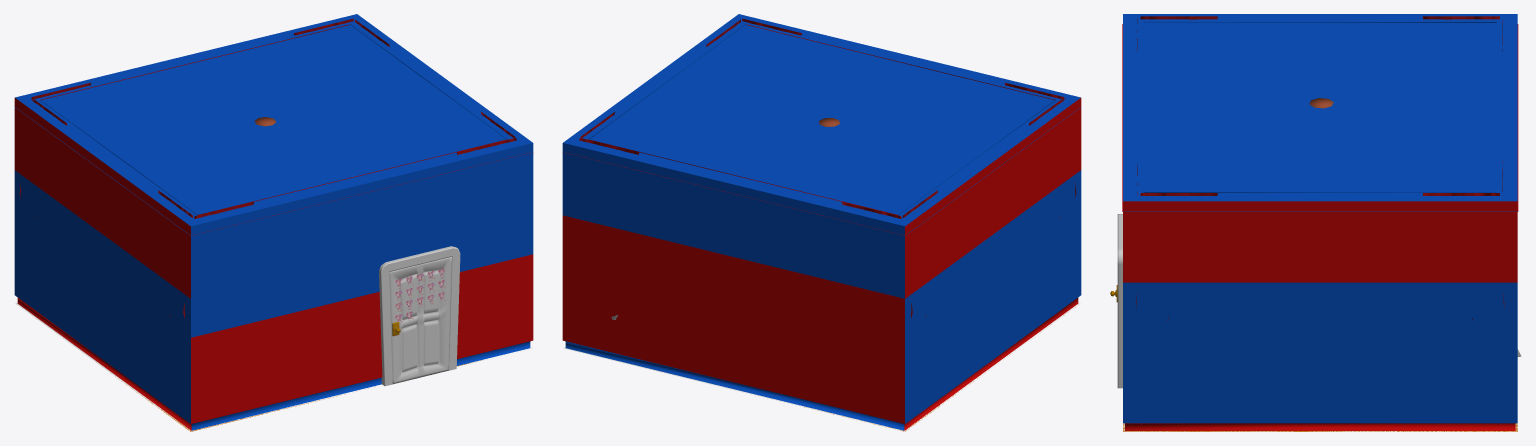
The model's file is Pomnis Room V3.gltf.
3 views of the same model, side by side, from view 1: azimuth 30°, elevation 25°; view 2: azimuth 150°, elevation 25°; view 3: azimuth 270°, elevation 25° (orthographic). The views are drawn at different scales.
Visible parts, largest first — view 1: Wall, Ceiling, Door Slab.024, Wall.002, Door Frame.024, Wall.001, Zooble; view 2: Wall, Ceiling, Wall.002, Wall.001; view 3: Wall, Ceiling, Wall.002, Wall.001, Door Frame.024, Floor.
Boxes of the visible parts, box(x1,y1,x2,y2) form: Wall: box(14, 98, 533, 423); Ceiling: box(15, 14, 532, 226); Door Slab.024: box(389, 257, 451, 384); Wall.002: box(15, 298, 532, 431); Door Frame.024: box(379, 246, 460, 386); Wall.001: box(14, 24, 533, 235); Zooble: box(395, 268, 445, 322); Wall: box(562, 98, 1081, 423); Ceiling: box(563, 14, 1080, 226); Wall.002: box(563, 298, 1080, 431); Wall.001: box(562, 24, 1081, 235); Wall: box(1123, 201, 1517, 423); Ceiling: box(1123, 14, 1517, 201); Wall.002: box(1123, 423, 1517, 431); Wall.001: box(1122, 22, 1518, 211); Door Frame.024: box(1117, 214, 1122, 388); Floor: box(1123, 423, 1517, 431).
Size of the model in its own units: 7.48 by 4.37 by 6.88.
